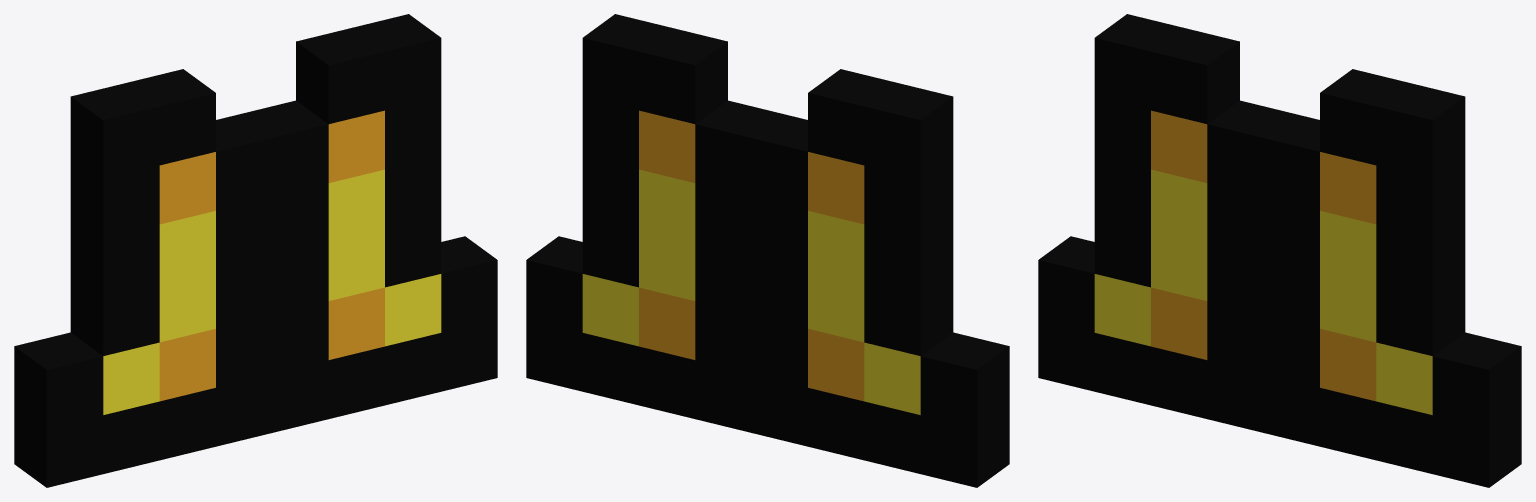
Rendered from Gold Boots.glb.
3 renders of one model, left to right at view 1: azimuth 30°, elevation 25°; view 2: azimuth 150°, elevation 25°; view 3: azimuth 330°, elevation 25°, orthographic.
Parts seen in each view (by area): view 1: generated(Clone); view 2: generated(Clone); view 3: generated(Clone).
Part boxes in pixels (x1=…): generated(Clone): x1=14, y1=14, x2=497, y2=487; generated(Clone): x1=526, y1=14, x2=1009, y2=487; generated(Clone): x1=1038, y1=14, x2=1521, y2=487.
Bounding box in the file's own units: 8 × 6 × 1.
Materials: 1 (1 with a texture image).
